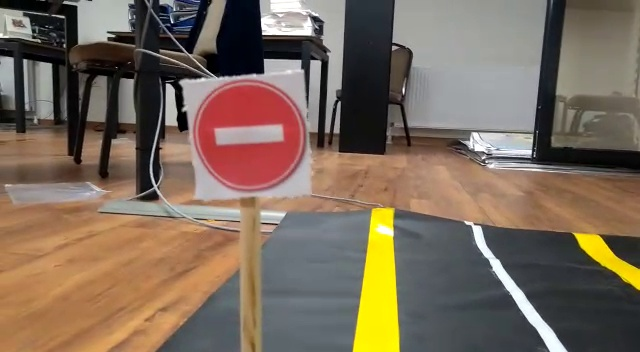girisi_olmayan_yol: (193, 80, 310, 194)
